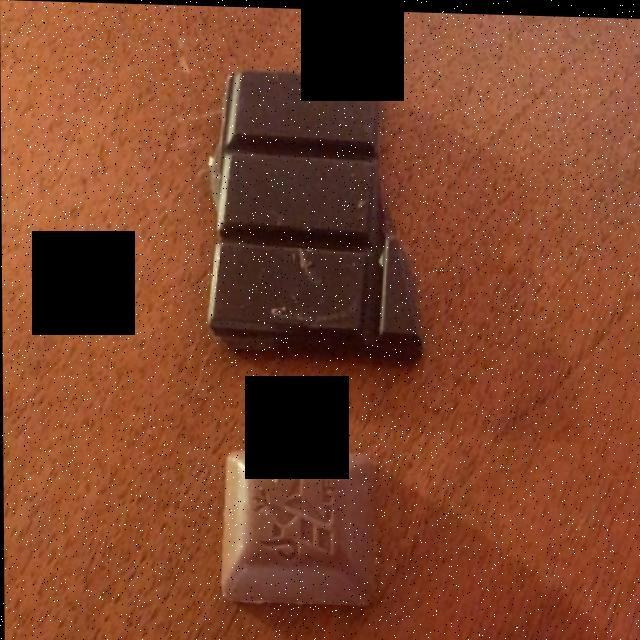chocolate: (196, 64, 425, 363), (230, 448, 376, 602)
